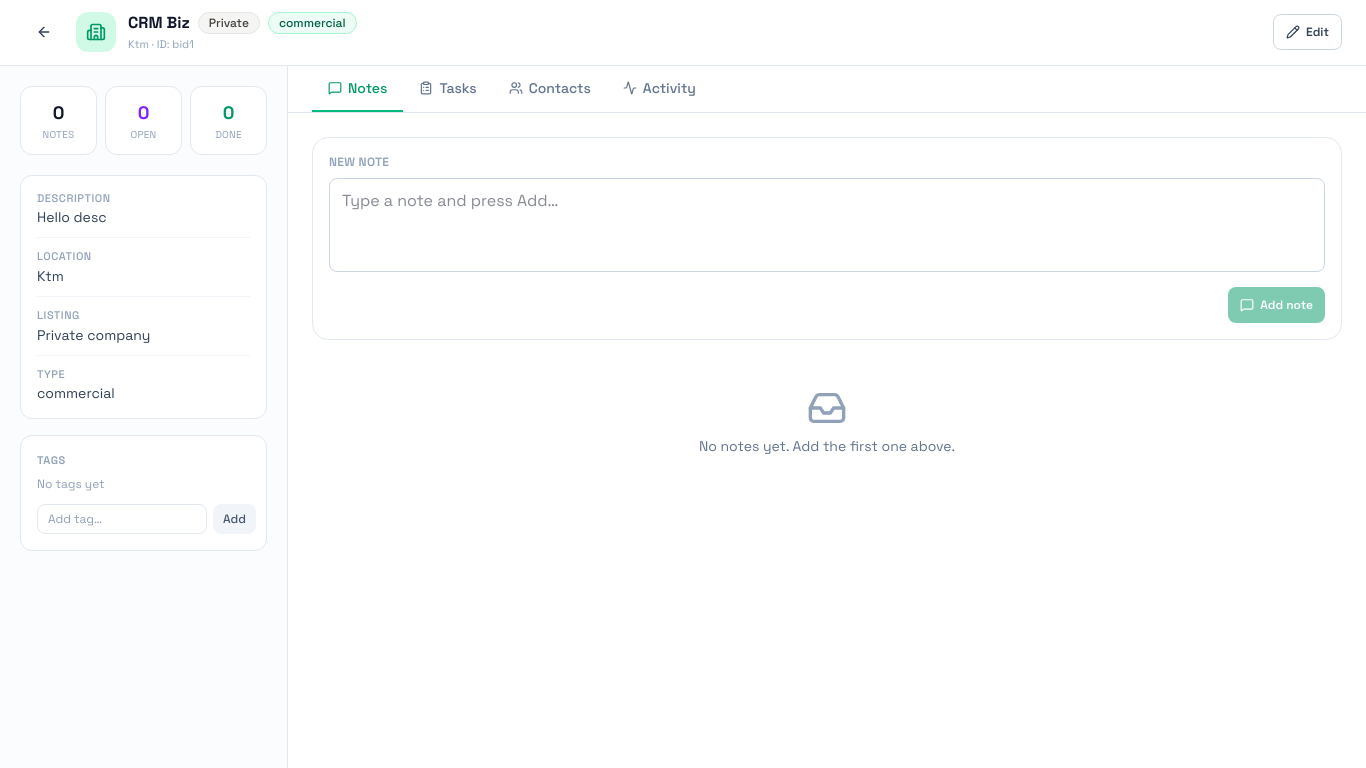
it: BusinessDetailPage › Edit button opens dialog with prefilled fields
The width and height of the screenshot is (1366, 768).
Click the button "Edit" at (1308, 32), box [1273, 14, 1342, 50]
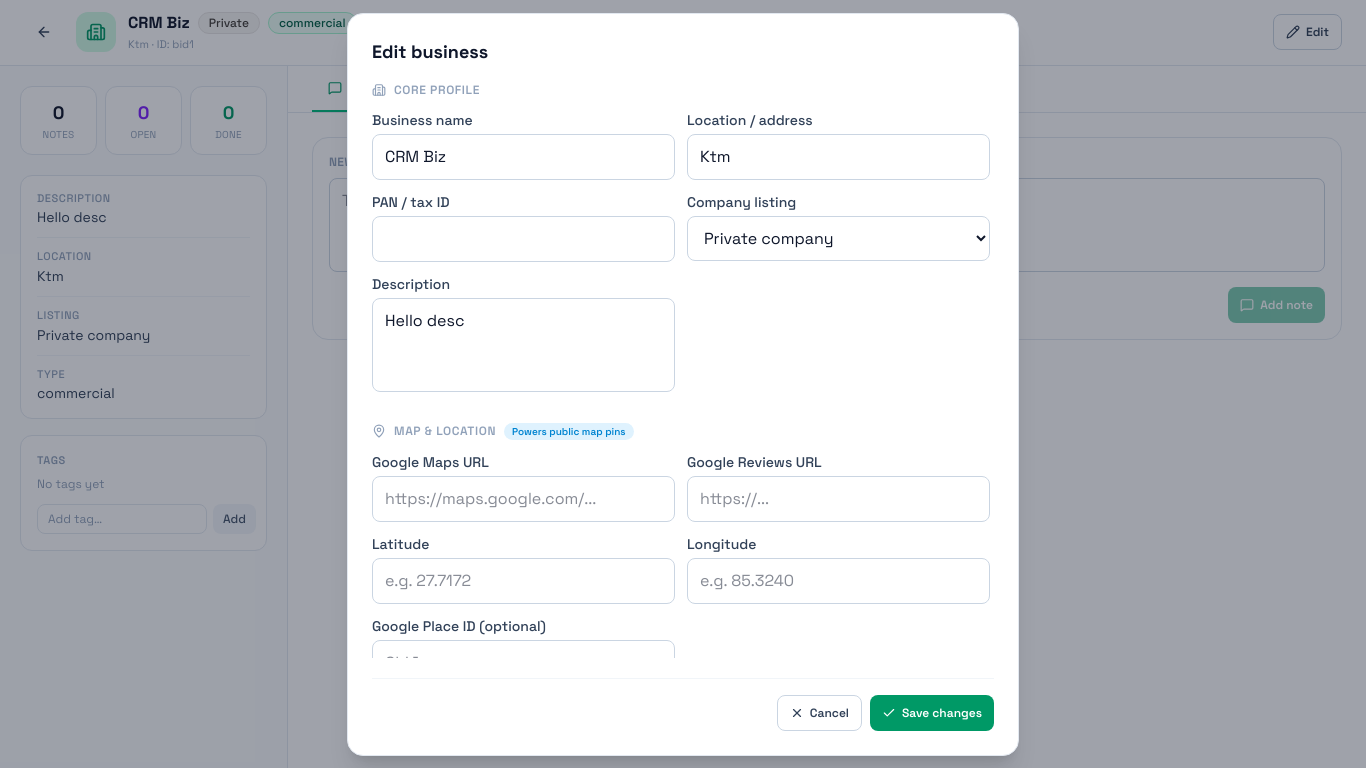
Expected: the field labelled "Business name" holds "CRM Biz", [372, 134, 675, 180]
Expected: the field labelled "Location / address" holds "Ktm", [687, 134, 990, 180]
Expected: the text box labelled "Description" holds "Hello desc", [372, 298, 675, 392]
